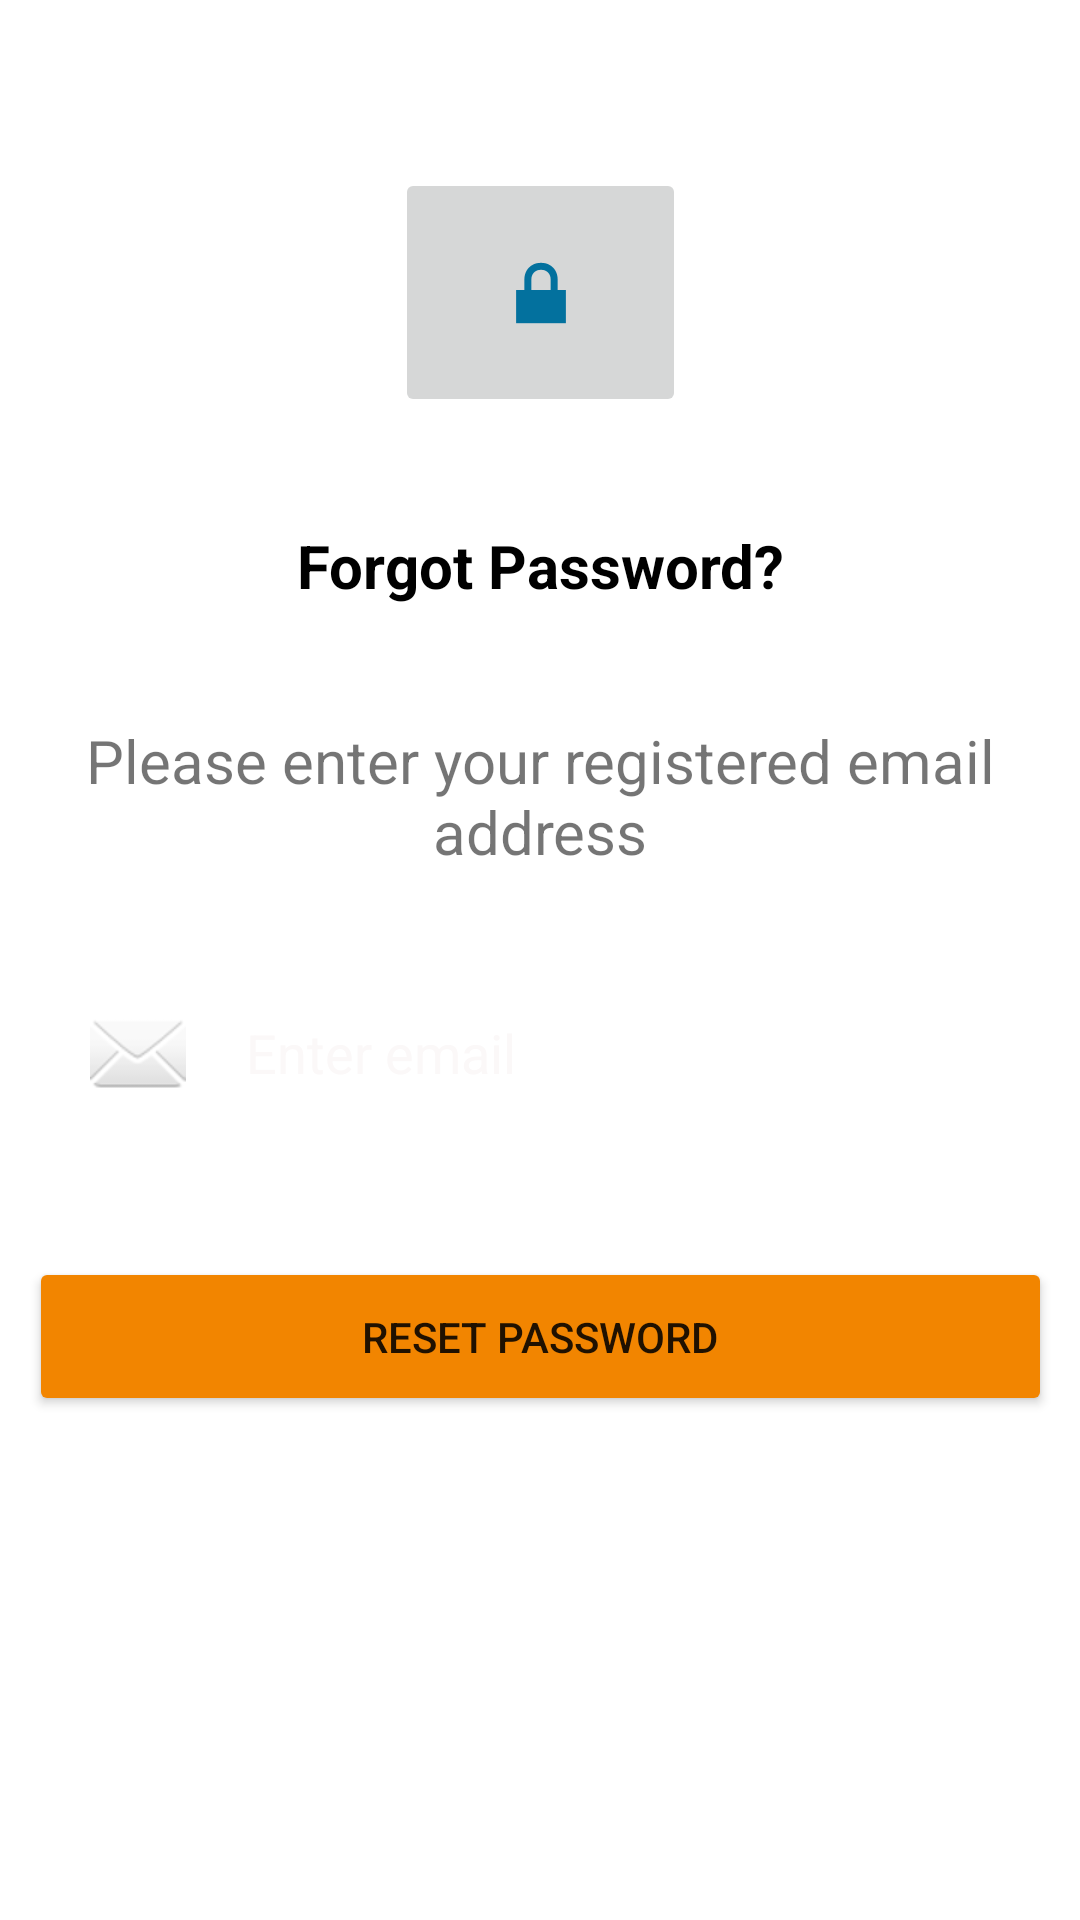

Where to tap for icons on this 1080 × 1920 app screen, as (x,y):
lock: (540,292)
